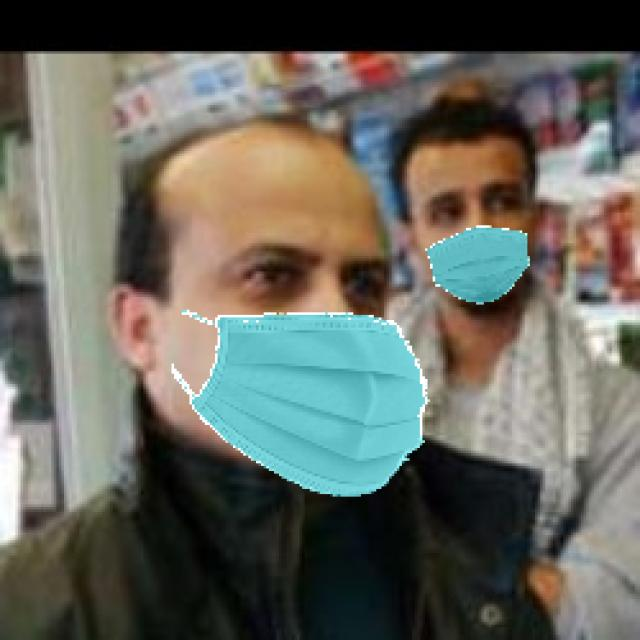mask: (176, 301, 470, 523), (409, 220, 562, 330)
